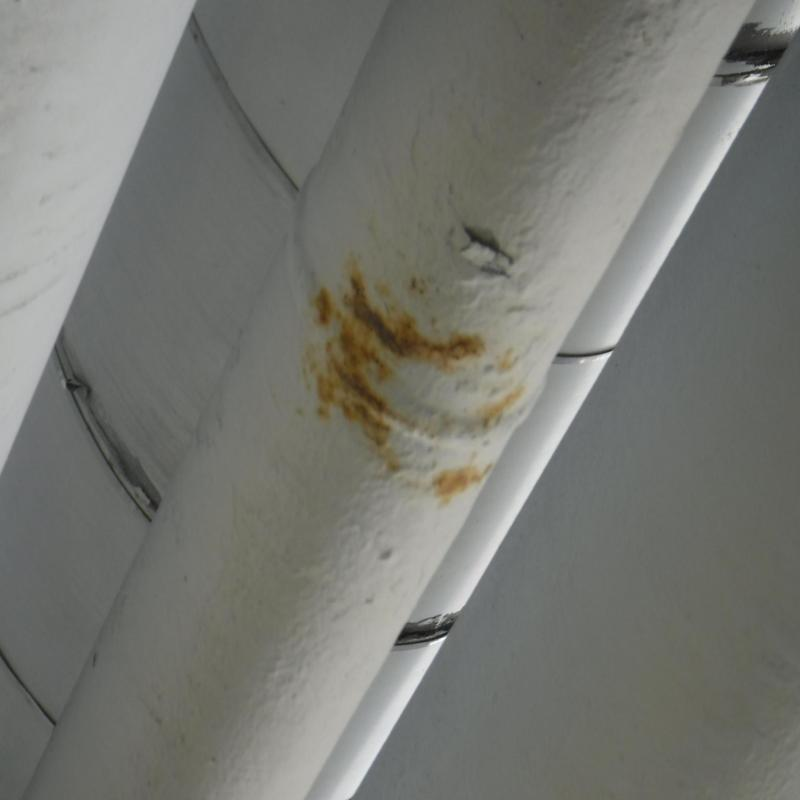corrosion: (332, 305, 416, 406)
